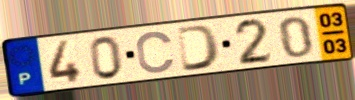0: (86, 33, 125, 82), (275, 15, 317, 59)
2: (234, 17, 273, 66)
4: (46, 39, 84, 86)
C: (134, 29, 178, 75)
D: (175, 23, 223, 73)
